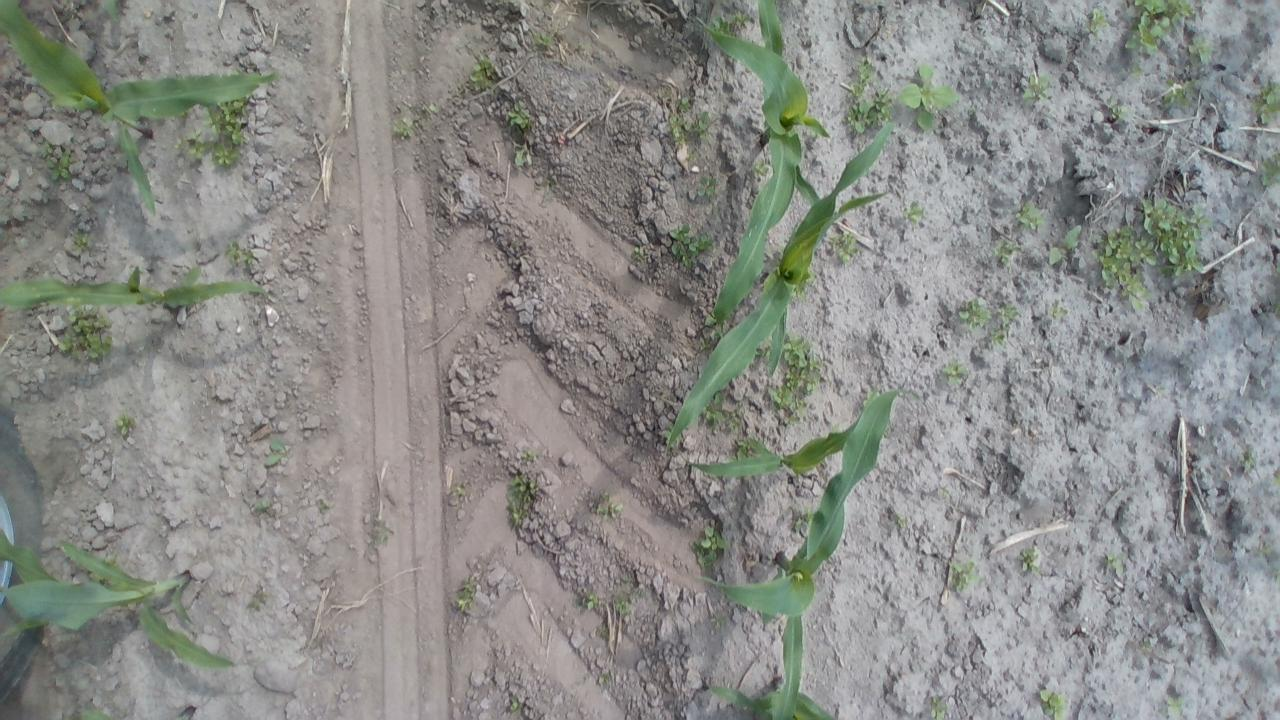Maize: (670, 114, 890, 456), (699, 393, 896, 716), (2, 0, 284, 214), (687, 0, 835, 325), (0, 532, 242, 676), (2, 258, 272, 318)
Weeds: (1137, 197, 1212, 282), (1096, 219, 1158, 308), (180, 95, 250, 172), (776, 332, 826, 422), (898, 62, 958, 131), (1126, 0, 1195, 54), (843, 65, 895, 132), (59, 305, 112, 361), (668, 222, 713, 268), (506, 470, 540, 530), (688, 523, 728, 569), (670, 106, 713, 145), (1046, 224, 1083, 266), (466, 53, 498, 91), (956, 296, 991, 330), (1038, 684, 1070, 720), (1252, 82, 1276, 128), (948, 558, 979, 592), (1162, 78, 1198, 107), (830, 231, 860, 264), (452, 576, 480, 610), (46, 146, 73, 181), (1022, 74, 1052, 105), (506, 101, 536, 129), (1017, 201, 1044, 232), (594, 491, 624, 518), (991, 240, 1020, 267), (1187, 34, 1214, 63), (942, 356, 968, 385), (716, 12, 753, 32), (1018, 546, 1044, 574), (224, 241, 253, 264), (737, 436, 767, 458), (394, 116, 422, 138), (264, 438, 285, 467), (1084, 8, 1110, 31), (616, 590, 638, 616), (114, 413, 135, 440), (574, 591, 600, 612), (69, 231, 92, 254), (902, 200, 924, 224), (698, 175, 719, 200), (1259, 156, 1276, 186), (928, 694, 949, 718), (371, 522, 392, 546), (999, 302, 1019, 327), (1164, 696, 1186, 718), (725, 411, 746, 434), (1102, 552, 1122, 576), (794, 508, 814, 532), (530, 31, 555, 50), (704, 312, 721, 338), (702, 404, 722, 426), (750, 158, 770, 179), (1240, 446, 1256, 470), (1108, 103, 1129, 120), (514, 144, 530, 166), (596, 668, 614, 686), (988, 326, 1006, 344), (1049, 303, 1069, 319), (316, 496, 332, 515), (252, 498, 272, 513), (418, 102, 436, 117), (450, 482, 466, 498), (508, 699, 524, 715), (520, 448, 538, 461), (630, 246, 646, 260), (104, 554, 120, 568), (895, 514, 908, 528)
